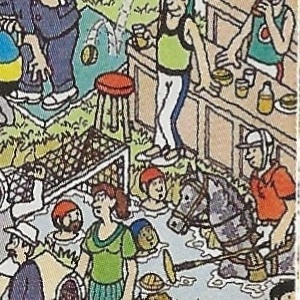Charlie: (193, 106, 211, 194)
